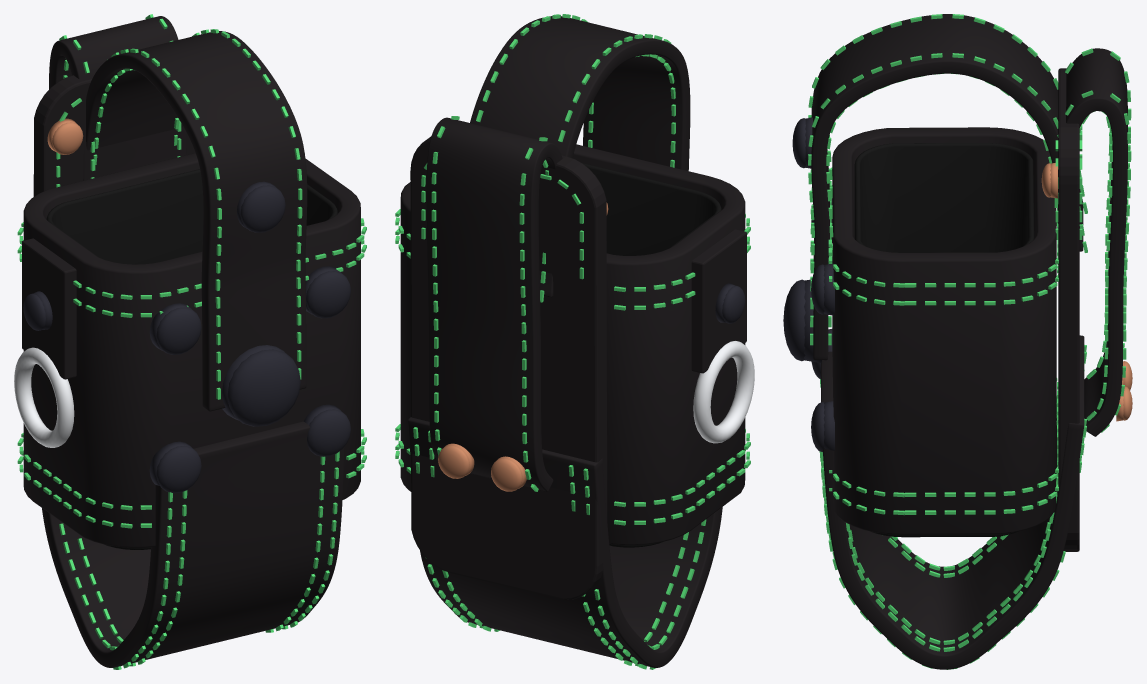
The model's file is holster.glb.
The picture shows the model from 3 angles, left to right: view 1: azimuth 30°, elevation 25°; view 2: azimuth 150°, elevation 25°; view 3: azimuth 270°, elevation 25°; orthographic projection. The views are drawn at different scales.
Visible parts, largest first — view 1: BodyCuff, BottomCradle, RetentionStrap, SnapsDark, Liner, Stitching, BeltLoop, DRingTab, BackPlate, DRing, CopperRivets; view 2: BackPlate, BeltLoop, BodyCuff, RetentionStrap, BottomCradle, Stitching, Liner, DRingTab, DRing, CopperRivets, SnapsDark; view 3: BodyCuff, BottomCradle, Liner, RetentionStrap, Stitching, BeltLoop, BackPlate, SnapsDark, CopperRivets.
Part boxes in pixels (left/top/right/bottom): BodyCuff: left=23, top=153, right=360, bottom=547; BottomCradle: left=42, top=421, right=344, bottom=667; RetentionStrap: left=86, top=31, right=307, bottom=411; SnapsDark: left=23, top=181, right=350, bottom=493; Liner: left=46, top=169, right=337, bottom=549; Stitching: left=17, top=14, right=366, bottom=669; BeltLoop: left=49, top=16, right=186, bottom=180; DRingTab: left=22, top=238, right=76, bottom=379; BackPlate: left=33, top=75, right=195, bottom=196; DRing: left=14, top=347, right=74, bottom=447; CopperRivets: left=47, top=118, right=83, bottom=154; BackPlate: left=410, top=136, right=607, bottom=599; BeltLoop: left=426, top=117, right=562, bottom=492; BodyCuff: left=400, top=144, right=745, bottom=545; RetentionStrap: left=470, top=16, right=690, bottom=297; BottomCradle: left=408, top=417, right=722, bottom=667; Stitching: left=395, top=14, right=750, bottom=669; Liner: left=581, top=162, right=721, bottom=547; DRingTab: left=691, top=229, right=746, bottom=373; DRing: left=693, top=341, right=754, bottom=443; CopperRivets: left=438, top=202, right=608, bottom=491; SnapsDark: left=715, top=283, right=745, bottom=323; BodyCuff: left=832, top=127, right=1056, bottom=534; BottomCradle: left=821, top=335, right=1084, bottom=669; Liner: left=854, top=143, right=1034, bottom=537; RetentionStrap: left=811, top=14, right=1083, bottom=360; Stitching: left=808, top=14, right=1131, bottom=669; BeltLoop: left=1057, top=48, right=1127, bottom=436; BackPlate: left=1058, top=68, right=1079, bottom=551; SnapsDark: left=783, top=117, right=834, bottom=451; CopperRivets: left=1041, top=163, right=1132, bottom=421.
Bounding box in the file's own units: 0.1066 × 0.1988 × 0.1058.
